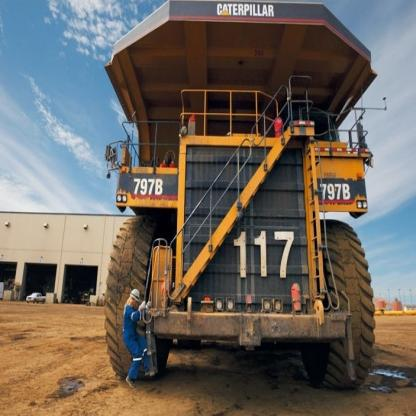dump_truck: (102, 1, 379, 380)
